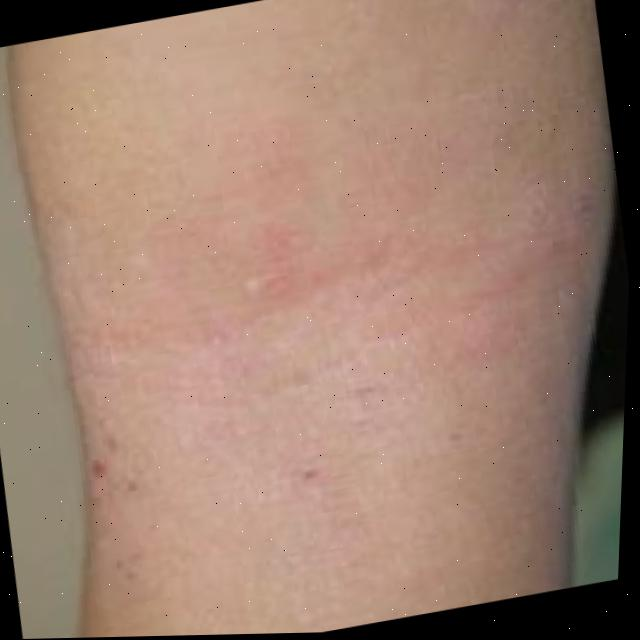Eczema: (29, 69, 608, 545)
